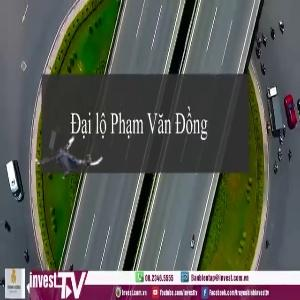drone: (36, 127, 104, 195)
